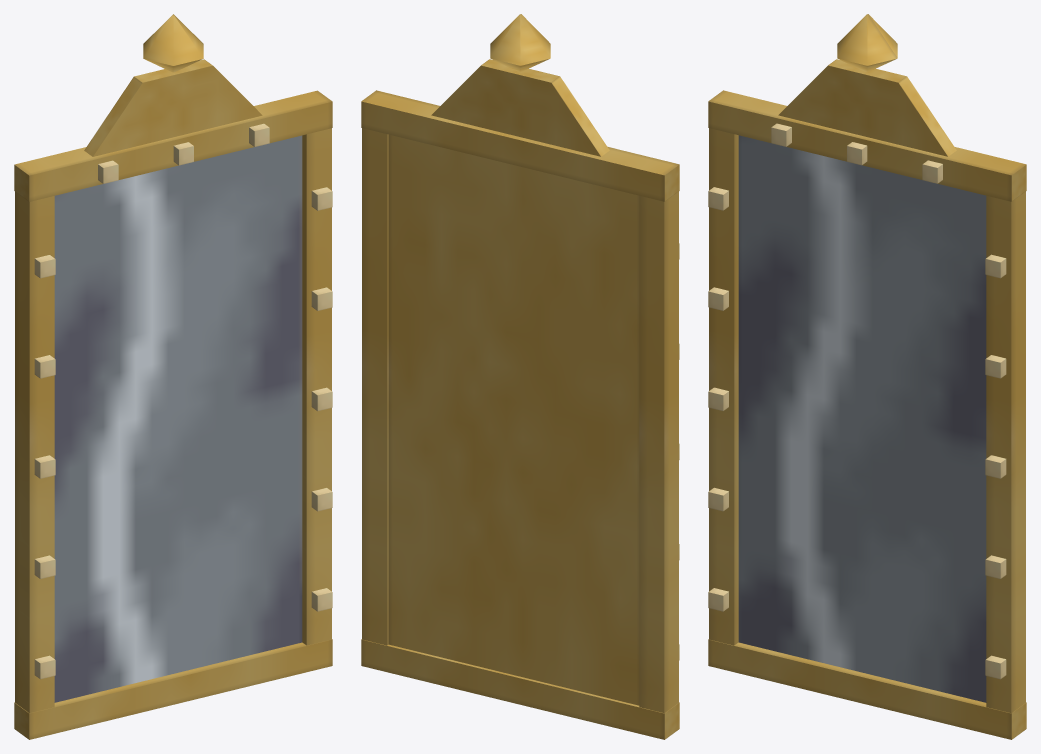
Rendered from fun_mirror.obj.
The picture shows the model from 3 angles, left to right: view 1: azimuth 30°, elevation 25°; view 2: azimuth 150°, elevation 25°; view 3: azimuth 330°, elevation 25°; orthographic projection.
Visible parts, largest first — view 1: fun_mirror; view 2: fun_mirror; view 3: fun_mirror.
Boxes of the visible parts, <box> form: fun_mirror: <box>14,14,332,739</box>; fun_mirror: <box>361,14,679,739</box>; fun_mirror: <box>708,14,1026,739</box>.
Size of the model in its own units: 1.2 by 2.59 by 0.2078.
1 material, 1 textured.
